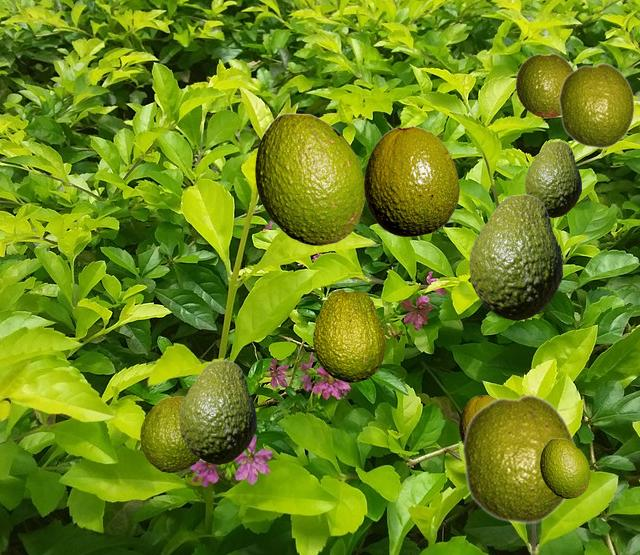avocado: (461, 393, 576, 524), (255, 113, 365, 244), (469, 194, 561, 319), (364, 126, 458, 235), (179, 360, 255, 463), (558, 62, 634, 148), (313, 289, 384, 381), (140, 396, 199, 471), (525, 141, 580, 216), (515, 53, 573, 117), (540, 438, 589, 497), (459, 395, 495, 441)
